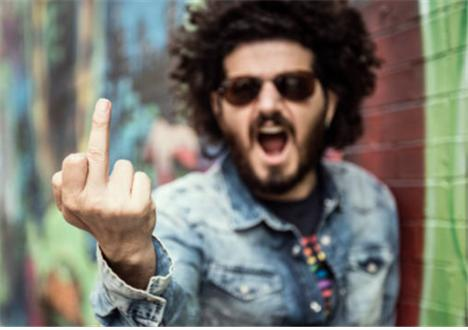insulting_gesture: (53, 95, 158, 266)
